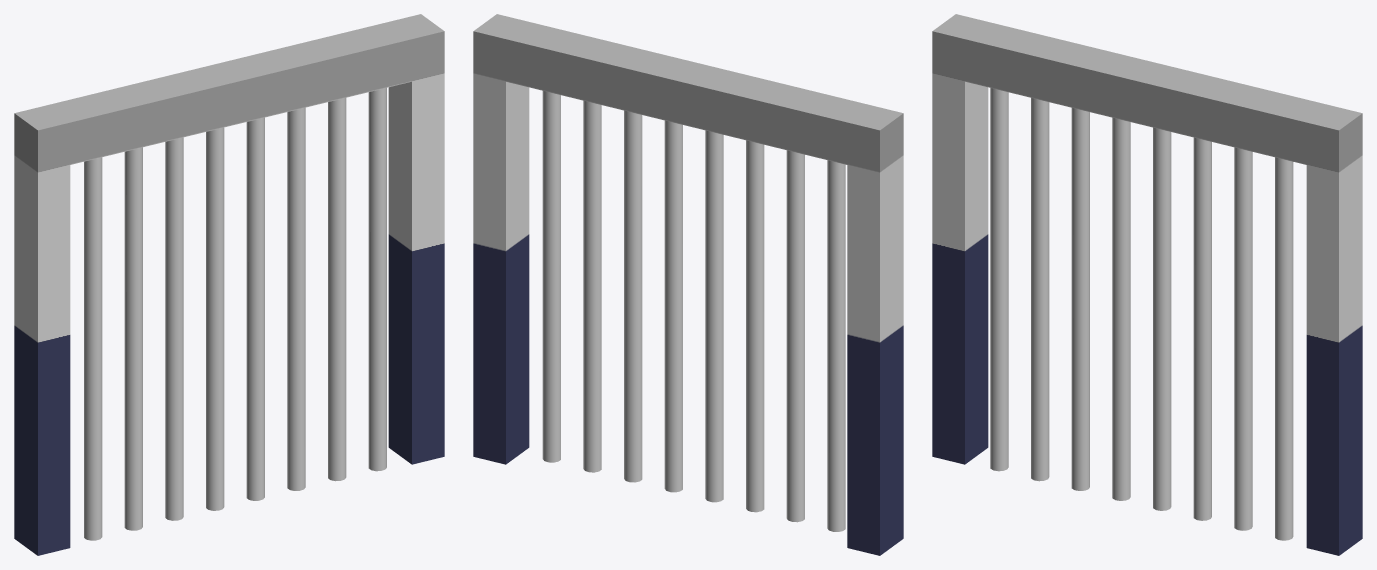
File: BarsWall.fbx
The picture shows the model from 3 angles, left to right: view 1: azimuth 30°, elevation 25°; view 2: azimuth 150°, elevation 25°; view 3: azimuth 330°, elevation 25°; orthographic projection.
Visible parts, largest first — view 1: Bars, Cylinder004, Cylinder003, Cylinder001, Cylinder008, Cylinder007, Cylinder002, Cylinder006, Cylinder005; view 2: Bars, Cylinder005, Cylinder001, Cylinder006, Cylinder007, Cylinder002, Cylinder003, Cylinder008, Cylinder004; view 3: Bars, Cylinder007, Cylinder006, Cylinder004, Cylinder003, Cylinder001, Cylinder008, Cylinder005, Cylinder002.
Boxes of the visible parts, <box> form: Bars: <box>14,14,444,555</box>; Cylinder004: <box>84,157,102,540</box>; Cylinder003: <box>165,137,183,520</box>; Cylinder001: <box>206,127,224,510</box>; Cylinder008: <box>368,88,386,471</box>; Cylinder007: <box>328,98,346,481</box>; Cylinder002: <box>124,147,142,530</box>; Cylinder006: <box>287,107,305,490</box>; Cylinder005: <box>246,117,264,500</box>; Bars: <box>473,14,903,555</box>; Cylinder005: <box>664,120,682,492</box>; Cylinder001: <box>705,130,723,502</box>; Cylinder006: <box>624,110,642,482</box>; Cylinder007: <box>583,100,601,472</box>; Cylinder002: <box>786,150,804,522</box>; Cylinder003: <box>746,140,764,512</box>; Cylinder008: <box>542,91,560,462</box>; Cylinder004: <box>827,160,845,531</box>; Bars: <box>932,14,1362,555</box>; Cylinder007: <box>1234,147,1252,530</box>; Cylinder006: <box>1193,137,1211,520</box>; Cylinder004: <box>990,88,1008,471</box>; Cylinder003: <box>1071,108,1089,490</box>; Cylinder001: <box>1112,117,1130,500</box>; Cylinder008: <box>1275,157,1293,540</box>; Cylinder005: <box>1153,127,1171,510</box>; Cylinder002: <box>1031,98,1049,481</box>.
Size of the model in its own units: 78.74 by 78.74 by 7.9.
Materials: 1 (1 with a texture image).
